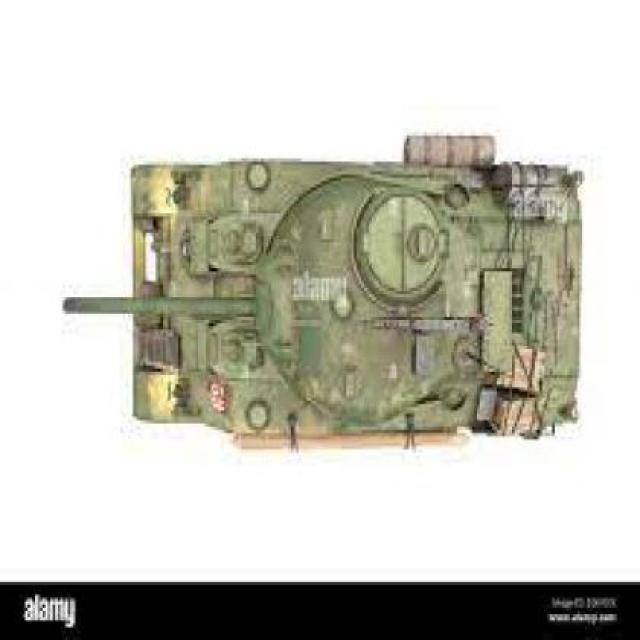Tanks: (61, 136, 582, 444)
